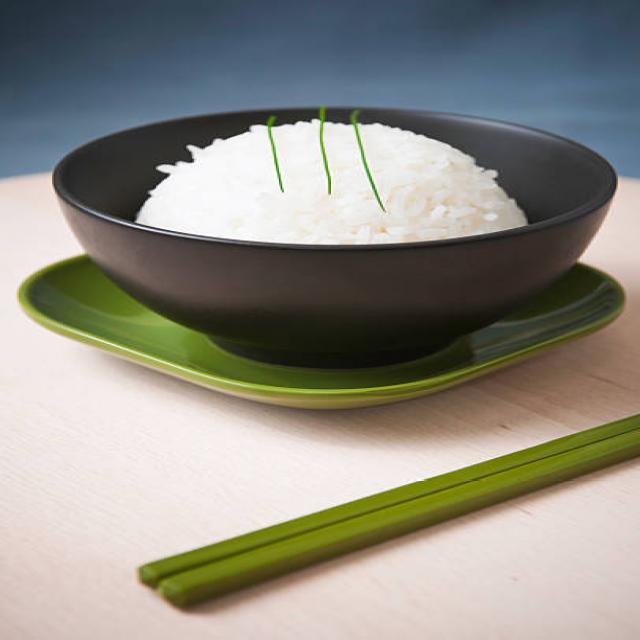Rice: (134, 119, 528, 243)
